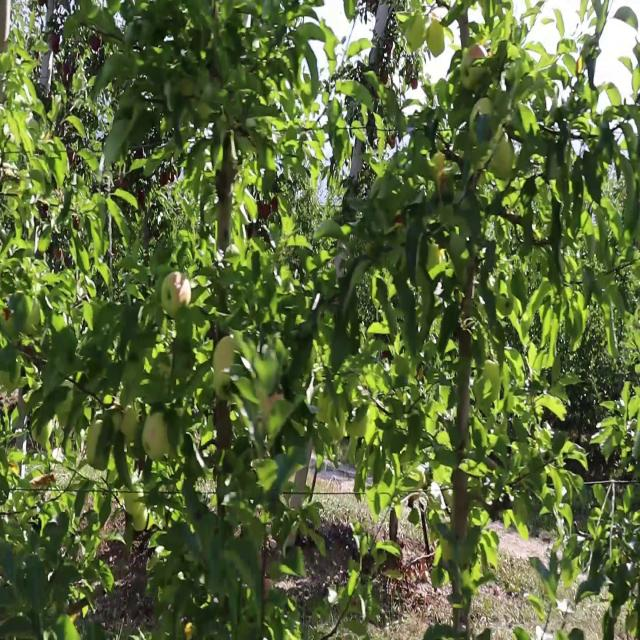apple: (212, 334, 238, 401), (160, 269, 192, 319), (142, 409, 170, 460), (459, 42, 487, 88), (490, 131, 516, 180), (86, 420, 110, 471), (470, 96, 494, 141), (30, 414, 53, 446), (406, 12, 425, 50), (427, 20, 445, 56), (122, 405, 137, 442), (133, 505, 149, 531)
